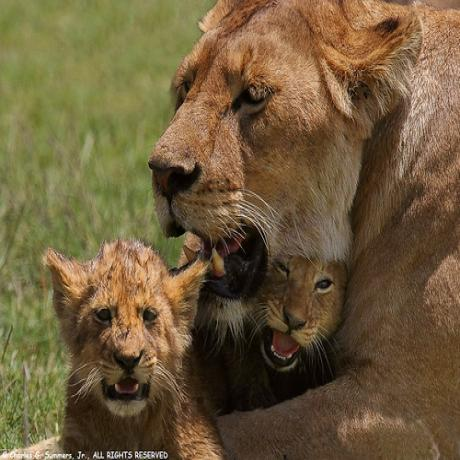Lion: (151, 0, 460, 460), (46, 239, 219, 460), (243, 242, 351, 409)
